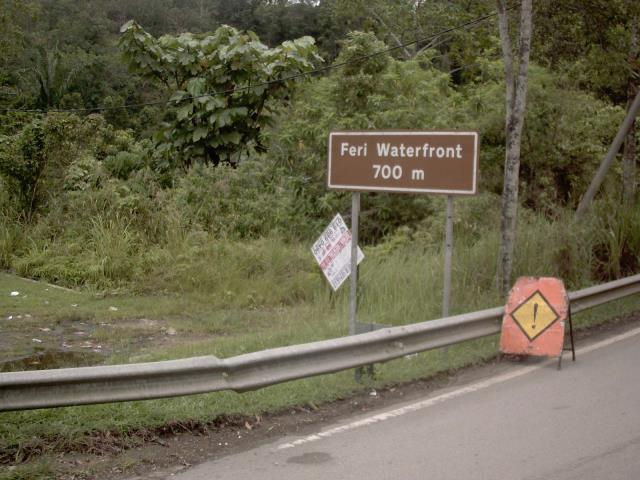ads_sign: (317, 116, 487, 208)
